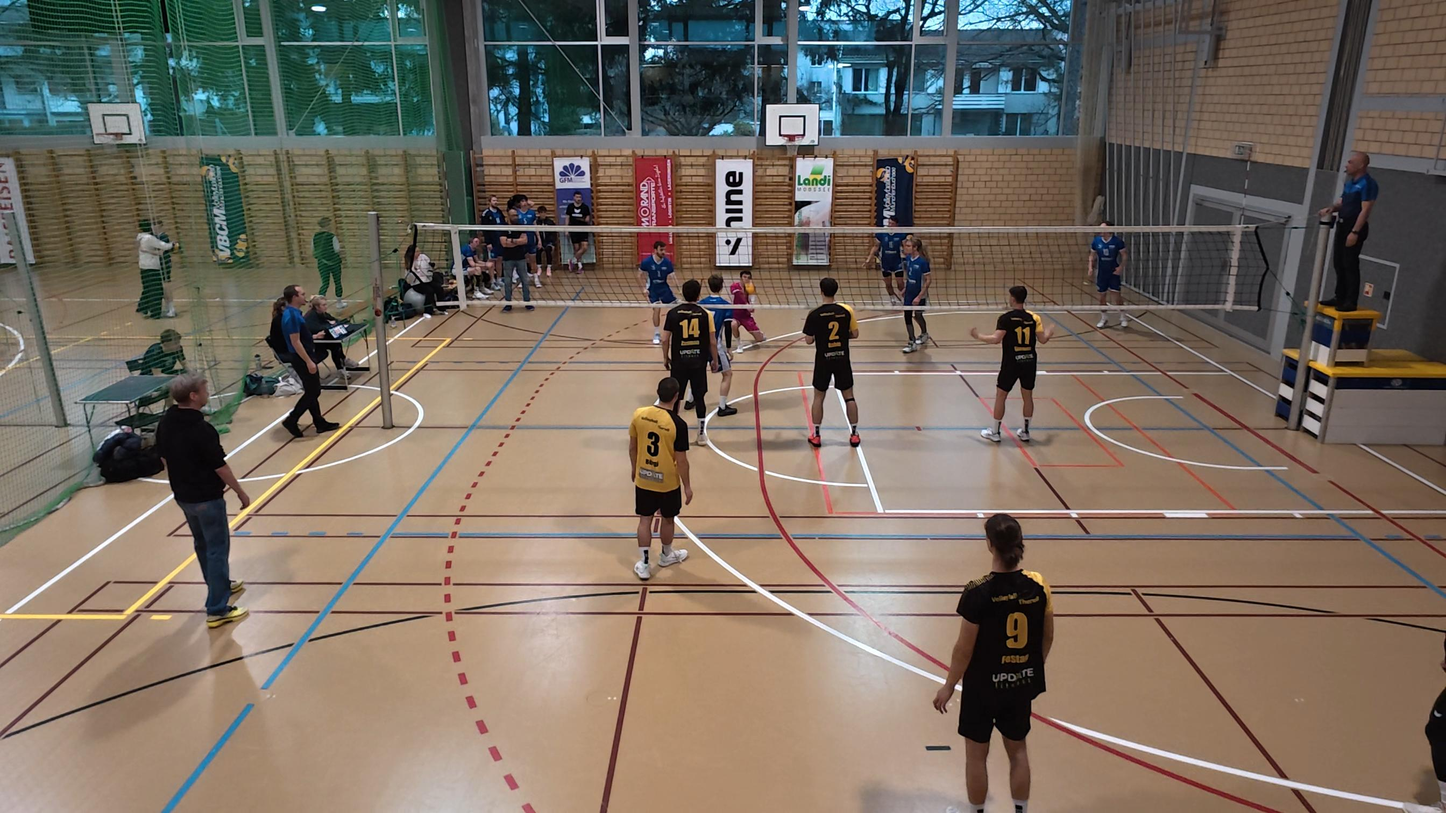ricezione: (727, 269, 764, 354), (741, 280, 758, 298)
